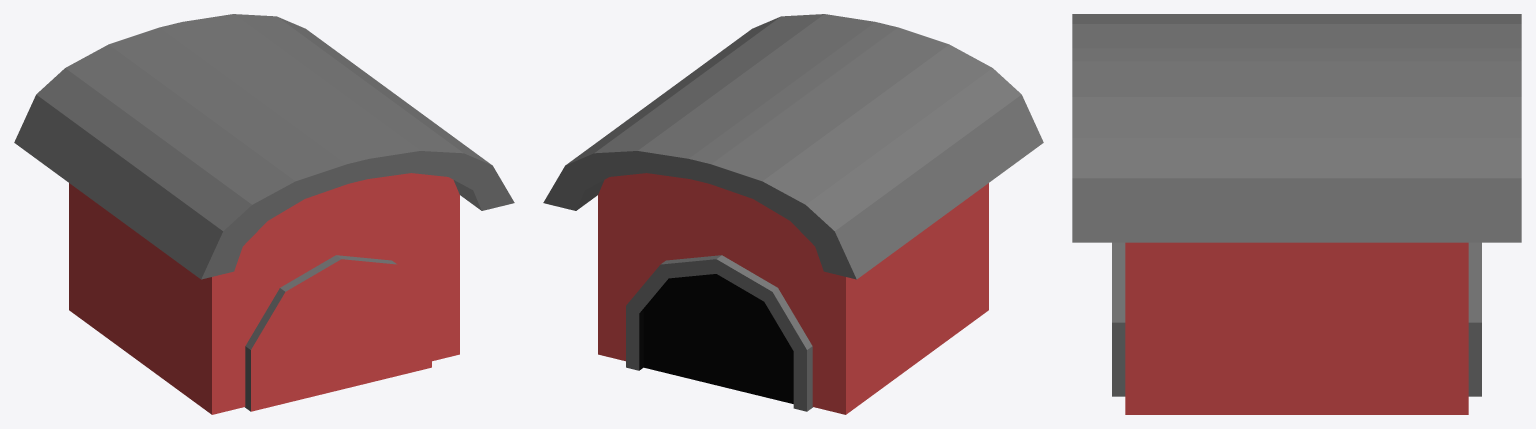
Rendered from tile_food_granary.fbx.
3 renders of one model, left to right at view 1: azimuth 30°, elevation 25°; view 2: azimuth 150°, elevation 25°; view 3: azimuth 270°, elevation 25°, orthographic. The views are drawn at different scales.
Visible parts, largest first — view 1: Granary; view 2: Granary; view 3: Granary.
Boxes of the visible parts, x1=… form: Granary: x1=14, y1=14, x2=514, y2=414; Granary: x1=543, y1=14, x2=1043, y2=414; Granary: x1=1072, y1=14, x2=1521, y2=414.
Size of the model in its own units: 1.65 by 1.2 by 1.7.
